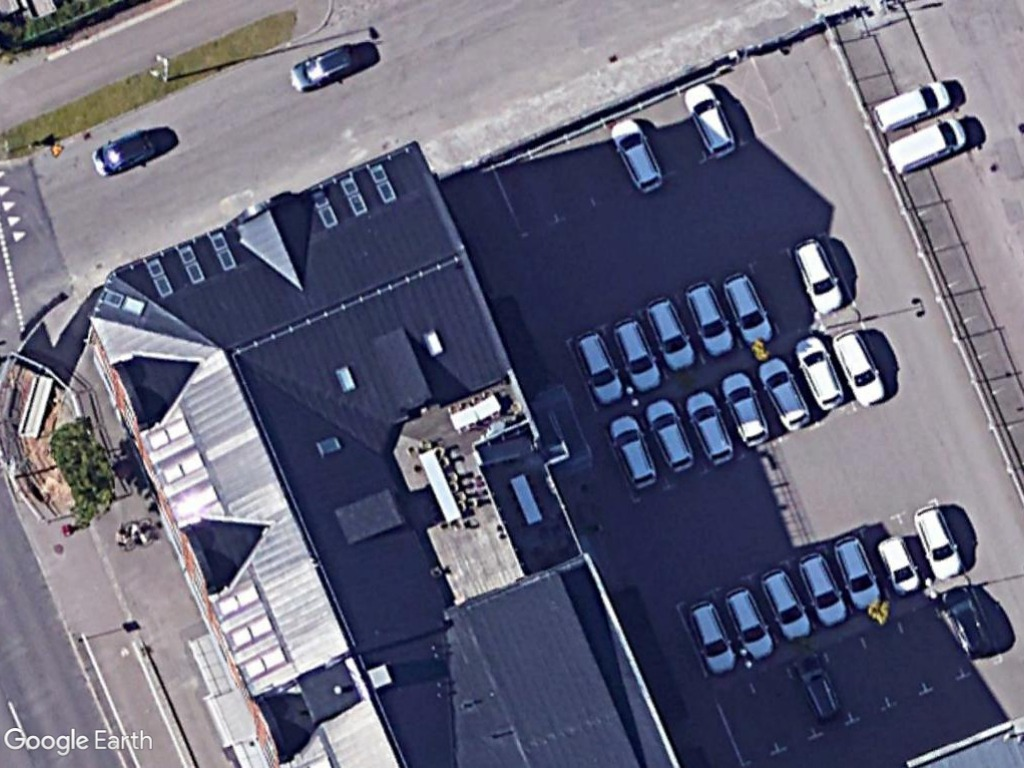car: (606, 313, 666, 396), (752, 355, 815, 434), (608, 114, 667, 198), (912, 497, 969, 583), (831, 326, 890, 409), (285, 35, 365, 96), (791, 330, 849, 414), (718, 267, 776, 349), (793, 232, 846, 320), (686, 277, 742, 359), (795, 548, 851, 630), (759, 562, 814, 645), (681, 386, 737, 467), (574, 325, 629, 407), (643, 292, 698, 373), (830, 531, 884, 613), (686, 596, 740, 678), (645, 398, 701, 477), (683, 81, 738, 160), (604, 414, 661, 490), (721, 369, 774, 448), (725, 583, 777, 661), (90, 124, 159, 182)
van: (883, 114, 971, 178), (868, 73, 954, 137), (874, 532, 922, 597)
